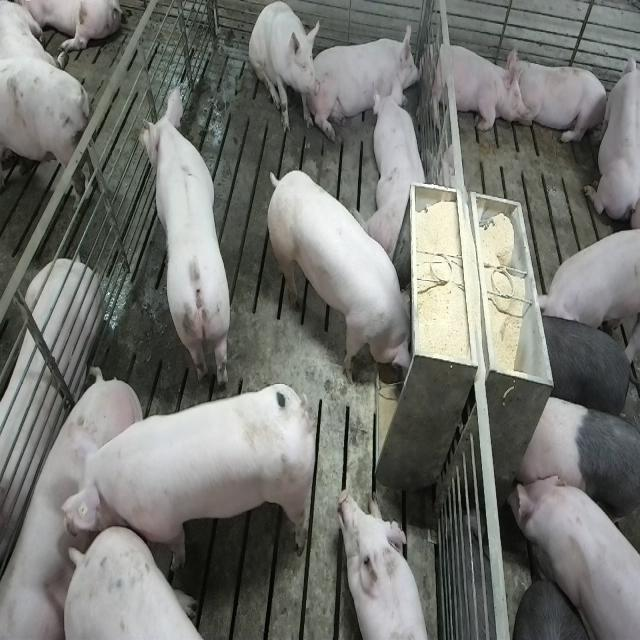Feeding: (272, 167, 420, 387)
Lateral_lying: (0, 368, 147, 640), (0, 256, 103, 592)
Sitting: (249, 2, 320, 137)
Standing: (62, 380, 316, 568), (137, 80, 233, 385), (506, 469, 638, 640), (512, 395, 638, 560), (58, 522, 232, 638), (0, 64, 103, 226), (532, 227, 636, 340), (534, 307, 638, 418)
Sternal_lying: (339, 490, 434, 640), (314, 25, 424, 135), (368, 80, 430, 262), (425, 36, 524, 135), (584, 42, 637, 226), (510, 51, 610, 148)
